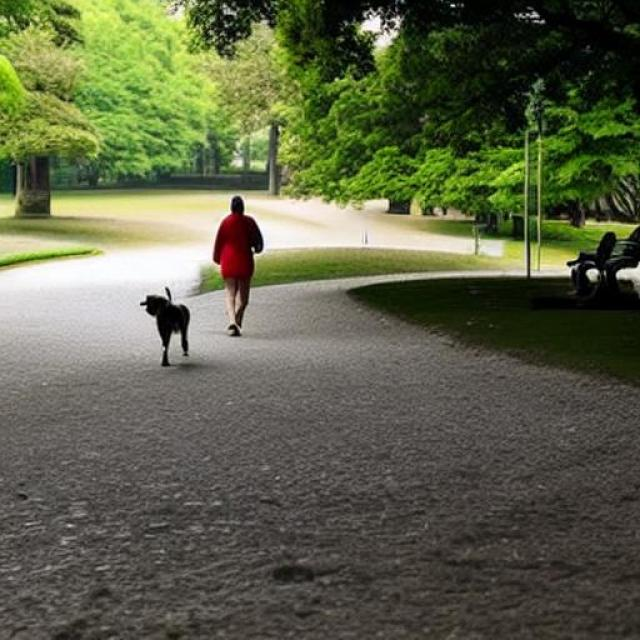Unleashed_Dog: (139, 280, 254, 364)
